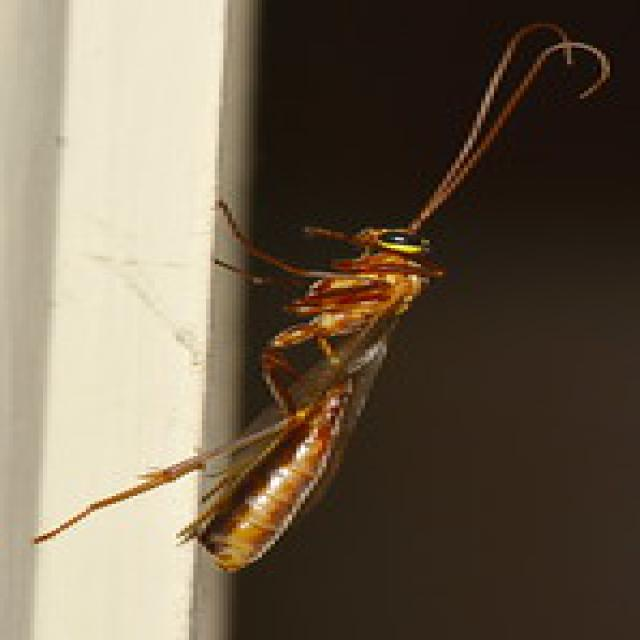Guepe: (37, 16, 622, 595)
